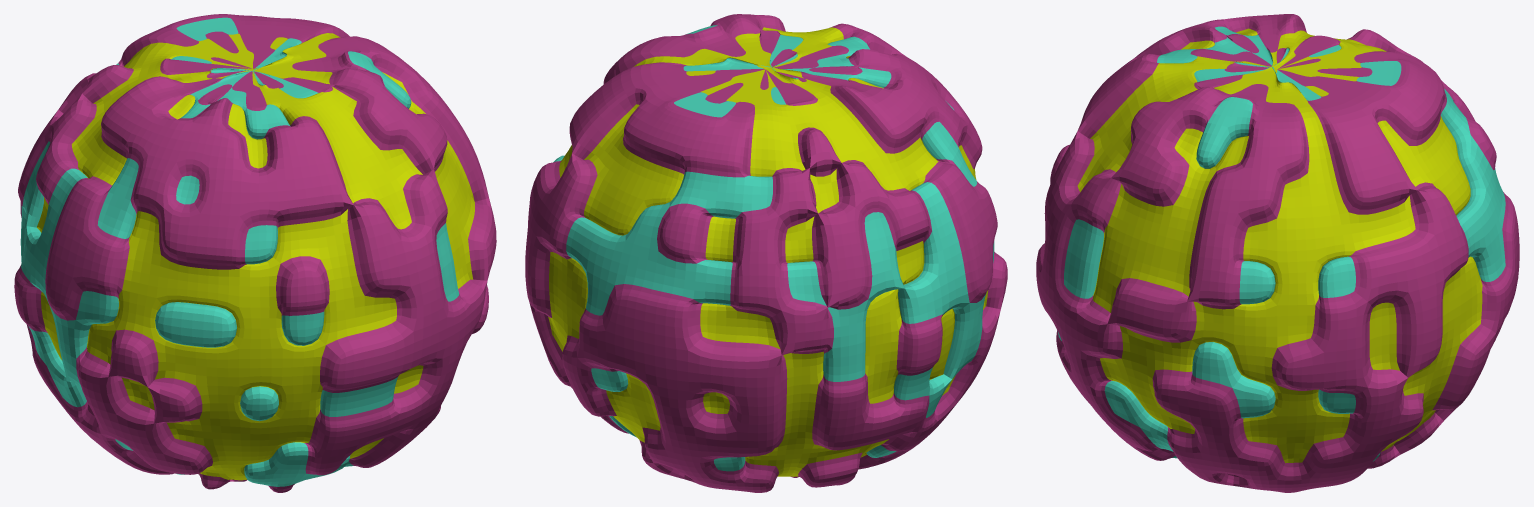
Rendered from planeta4.fbx.
3 views of the same model, side by side, from view 1: azimuth 30°, elevation 25°; view 2: azimuth 150°, elevation 25°; view 3: azimuth 270°, elevation 25° (orthographic).
Parts seen in each view (by area): view 1: Sphere; view 2: Sphere; view 3: Sphere.
Part boxes in pixels (x1,y1,x2,y2): Sphere: (14,14,496,492); Sphere: (525,14,1007,492); Sphere: (1036,14,1519,492).
Size of the model in its own units: 196 by 177 by 197.
